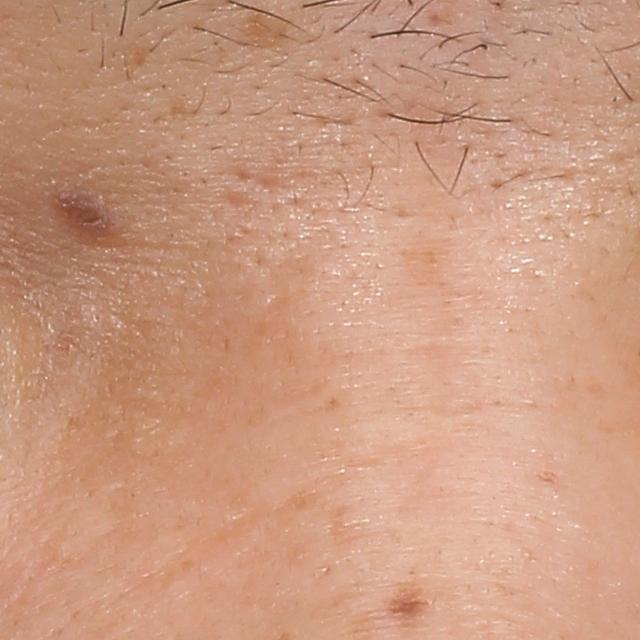melasma: (273, 484, 411, 553), (384, 574, 437, 635), (233, 9, 296, 53)
nevus: (47, 181, 113, 240)
